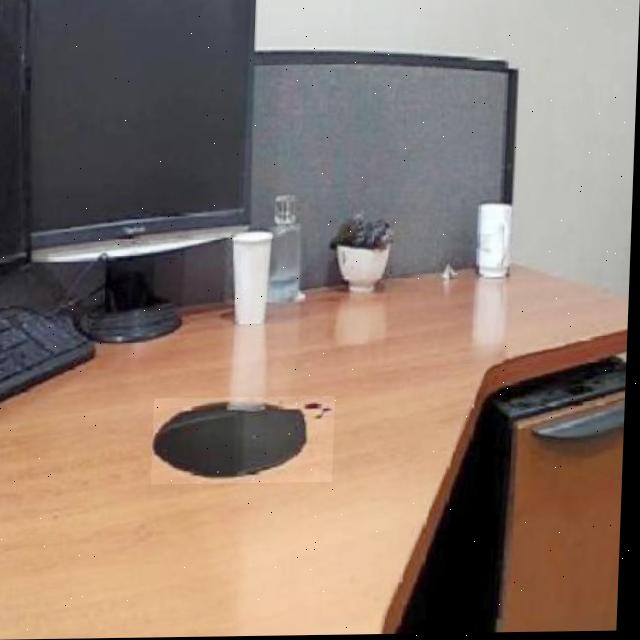spillage: (156, 397, 337, 483)
